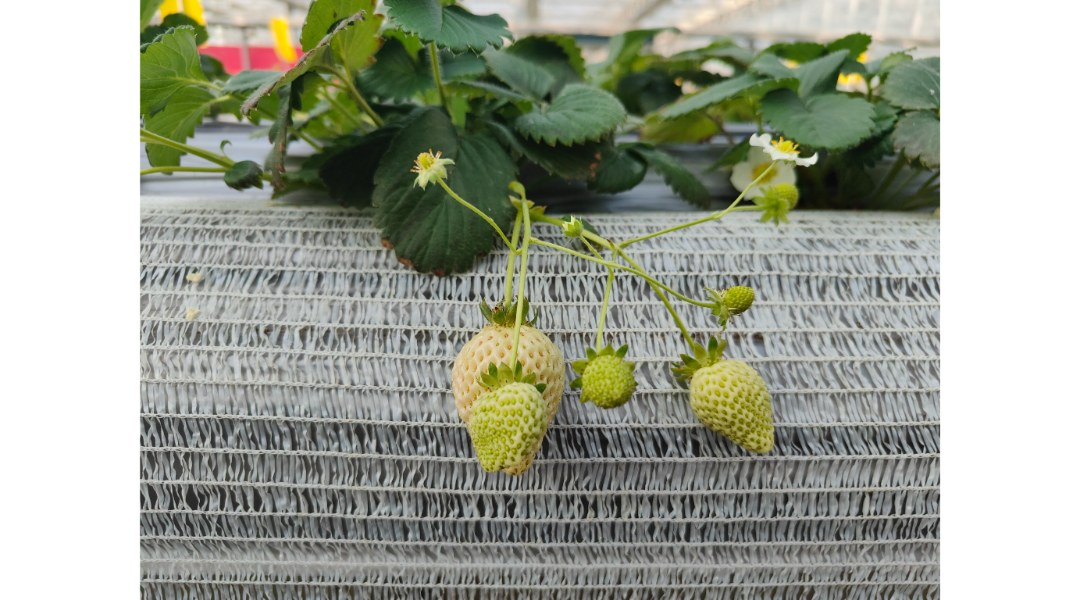berry: (438, 297, 570, 434), (665, 340, 795, 463), (457, 377, 545, 479), (576, 332, 641, 414), (703, 281, 766, 325)
flower: (739, 118, 828, 174), (408, 144, 455, 195)
strain: (437, 179, 507, 248), (632, 210, 720, 256), (512, 209, 524, 390), (595, 274, 612, 344), (540, 241, 591, 261)
